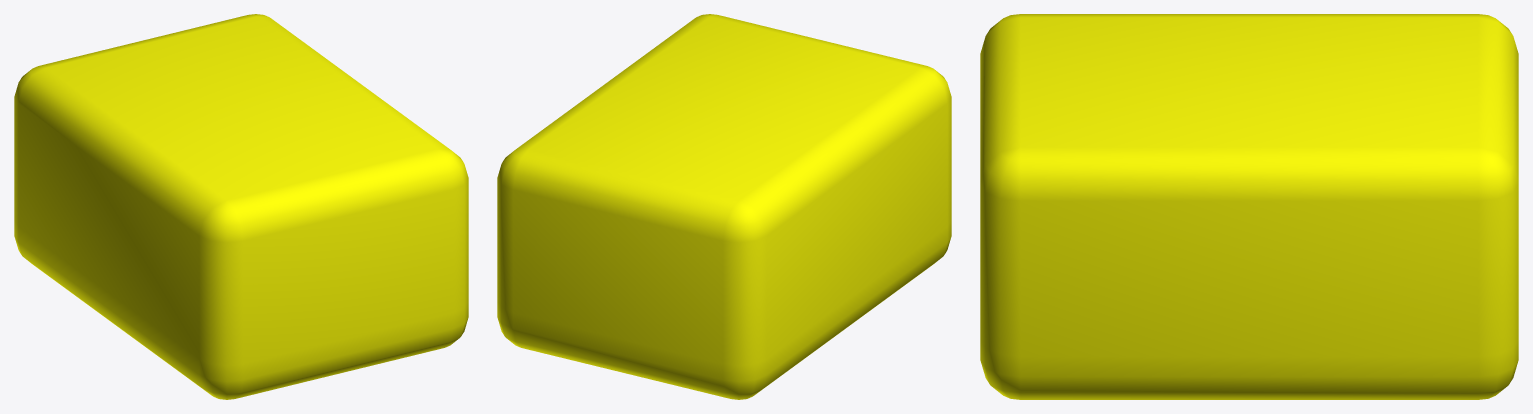
3 views of the same model, side by side, from view 1: azimuth 30°, elevation 25°; view 2: azimuth 150°, elevation 25°; view 3: azimuth 270°, elevation 25° (orthographic). The views are drawn at different scales.
Parts seen in each view (by area): view 1: Bam_6, Bam_1, Crak_7, Crak_1, Crak_5, Dot_1, Bam_2, Dot_5, Crak_8, Crak_2, Dot_8, Crak_4 (+3 smaller); view 2: Bam_3, Bam_2, Crak_7, Bam_1, Dot_1, Crak_4, Crak_5, Dot_5, Crak_3, Crak_2, Dot_9, Bam_8 (+5 smaller); view 3: Dot_6, Crak_9, Crak_5, Crak_2, Crak_1, Crak_4, Bam_1, Bam_2, Bam_6, Bam_3, Crak_6, Bam_8 (+5 smaller).
Part boxes in pixels (x1=…): Bam_6: x1=164, y1=146, x2=464, y2=399; Bam_1: x1=53, y1=17, x2=435, y2=393; Crak_7: x1=17, y1=38, x2=237, y2=365; Crak_1: x1=56, y1=18, x2=436, y2=185; Crak_5: x1=17, y1=21, x2=307, y2=388; Dot_1: x1=14, y1=70, x2=226, y2=398; Bam_2: x1=17, y1=17, x2=432, y2=278; Dot_5: x1=95, y1=128, x2=211, y2=390; Crak_8: x1=39, y1=17, x2=349, y2=161; Crak_2: x1=220, y1=14, x2=468, y2=332; Dot_8: x1=451, y1=175, x2=464, y2=339; Crak_4: x1=90, y1=18, x2=315, y2=75; Bam_3: x1=512, y1=153, x2=738, y2=397; Bam_2: x1=522, y1=17, x2=918, y2=399; Crak_7: x1=630, y1=64, x2=924, y2=377; Bam_1: x1=525, y1=17, x2=874, y2=200; Dot_1: x1=734, y1=70, x2=951, y2=399; Crak_4: x1=531, y1=16, x2=868, y2=198; Crak_5: x1=624, y1=17, x2=946, y2=391; Dot_5: x1=816, y1=82, x2=949, y2=277; Crak_3: x1=525, y1=20, x2=812, y2=199; Crak_2: x1=497, y1=14, x2=861, y2=346; Dot_9: x1=501, y1=175, x2=738, y2=394; Bam_8: x1=521, y1=150, x2=736, y2=399; Dot_6: x1=1008, y1=62, x2=1518, y2=383; Crak_9: x1=985, y1=28, x2=1488, y2=398; Crak_5: x1=1020, y1=14, x2=1494, y2=147; Crak_2: x1=985, y1=18, x2=1513, y2=399; Crak_1: x1=1020, y1=17, x2=1518, y2=383; Crak_4: x1=1016, y1=17, x2=1478, y2=150; Bam_1: x1=1020, y1=17, x2=1478, y2=147; Bam_2: x1=1020, y1=14, x2=1504, y2=147; Bam_6: x1=980, y1=15, x2=1020, y2=384; Bam_3: x1=1484, y1=23, x2=1518, y2=182; Crak_6: x1=1021, y1=18, x2=1477, y2=147; Bam_8: x1=1478, y1=17, x2=1498, y2=151.
Size of the model in its own units: 0.7334 by 0.5202 by 1.02.
Materials: 1 (1 with a texture image).
